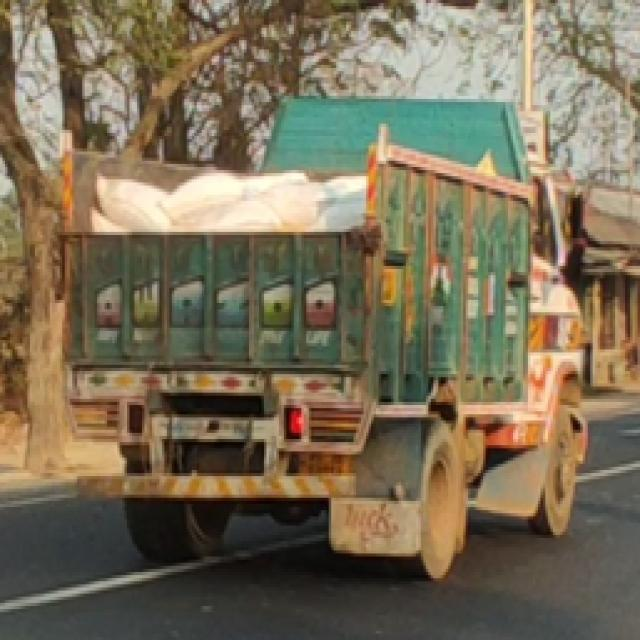truck: (57, 80, 588, 588)
